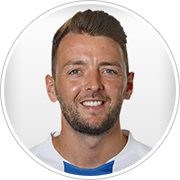face: (43, 46, 135, 127)
